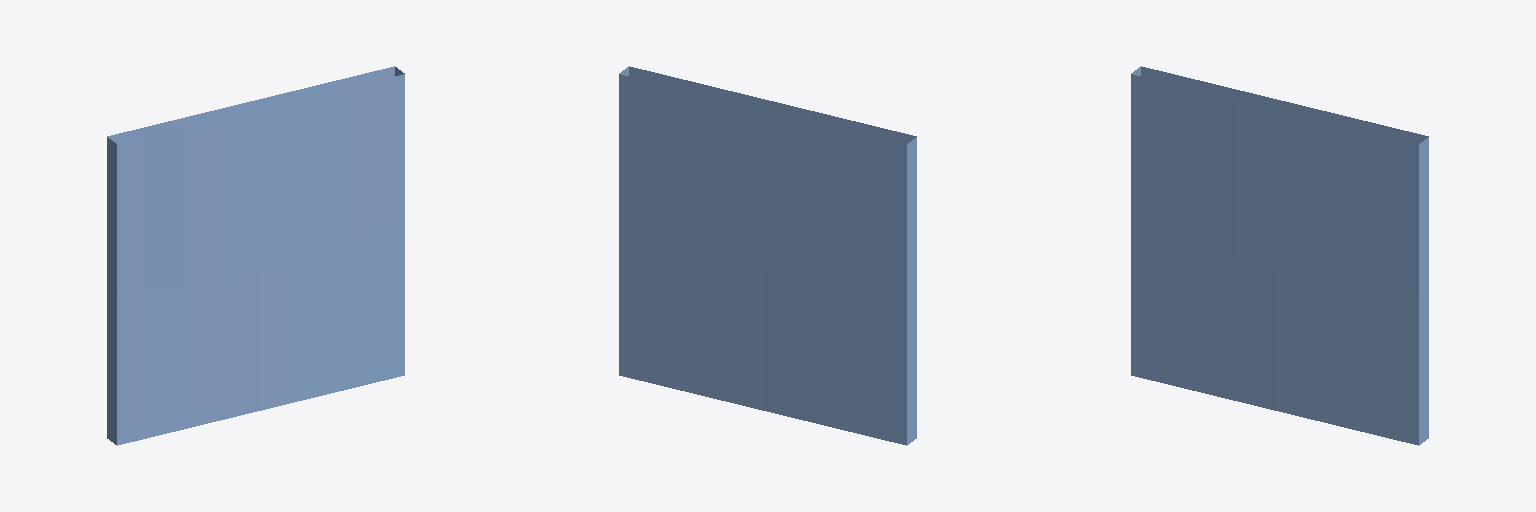
3 renders of one model, left to right at view 1: azimuth 30°, elevation 25°; view 2: azimuth 150°, elevation 25°; view 3: azimuth 330°, elevation 25°, orthographic.
Parts seen in each view (by area): view 1: Back, Right, Front; view 2: Front, Right, Back; view 3: Back, Left, Front.
Boxes of the visible parts, x1=… form: Back: x1=117, y1=74, x2=404, y2=445; Right: x1=107, y1=137, x2=116, y2=444; Front: x1=107, y1=66, x2=394, y2=143; Front: x1=619, y1=74, x2=906, y2=445; Right: x1=907, y1=137, x2=916, y2=444; Back: x1=629, y1=66, x2=916, y2=143; Back: x1=1131, y1=74, x2=1418, y2=445; Left: x1=1419, y1=137, x2=1428, y2=444; Front: x1=1141, y1=66, x2=1428, y2=143.
Bounding box in the file's own units: 1 × 1 × 0.0625.
1 materials, 1 textured.